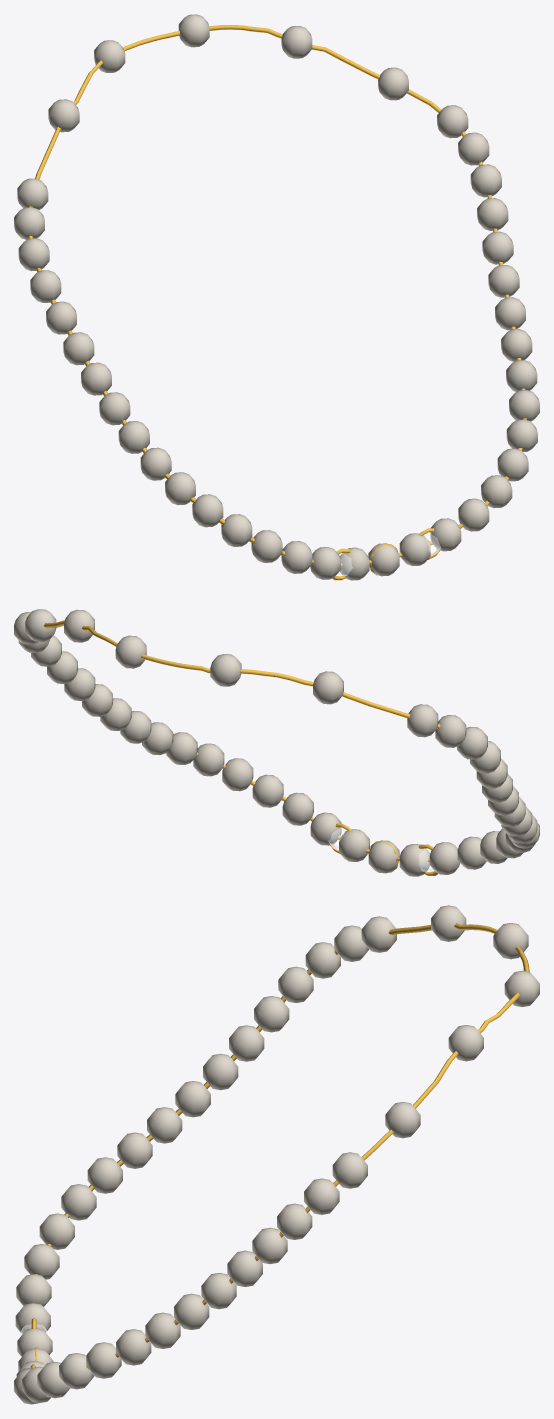
Rendered from opera_pearls.glb.
3 renders of one model, top to bottom at view 1: azimuth 30°, elevation 25°; view 2: azimuth 150°, elevation 25°; view 3: azimuth 270°, elevation 25°, orthographic. The views are drawn at different scales.
Visible parts, largest first — view 1: opera_pearls; view 2: opera_pearls; view 3: opera_pearls.
Boxes of the visible parts, <box> form: opera_pearls: <box>14,14,539,580</box>; opera_pearls: <box>14,609,539,876</box>; opera_pearls: <box>14,905,539,1404</box>.
Bounding box in the file's own units: 0.185 × 0.1476 × 0.1641.
